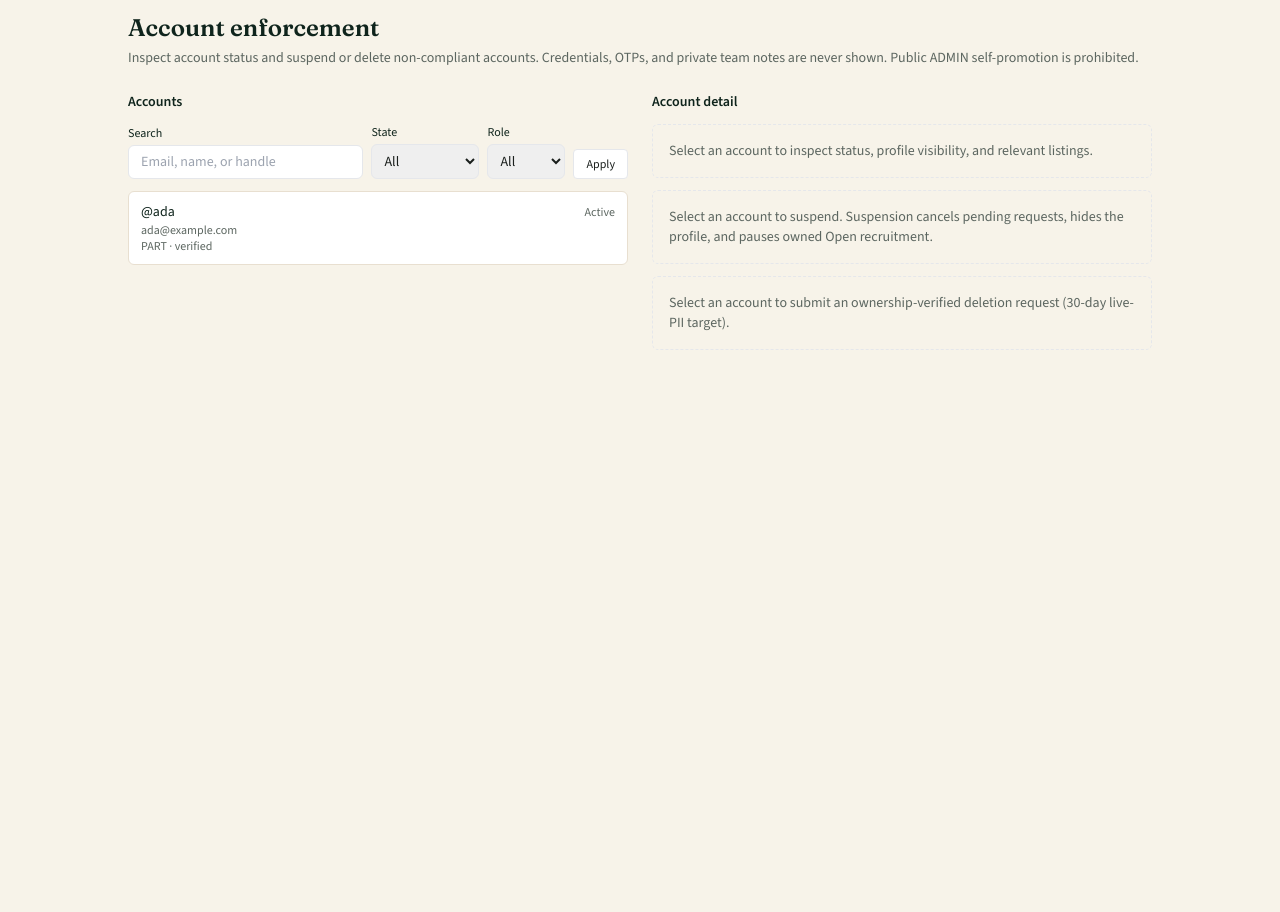
Test: AccountEnforcementPage (US-027 / #255) › shows detail load failure with retry
The width and height of the screenshot is (1280, 912).
Click the button "@ada Active ada@example.com PART · verified": (158, 212) [129, 192, 627, 264]
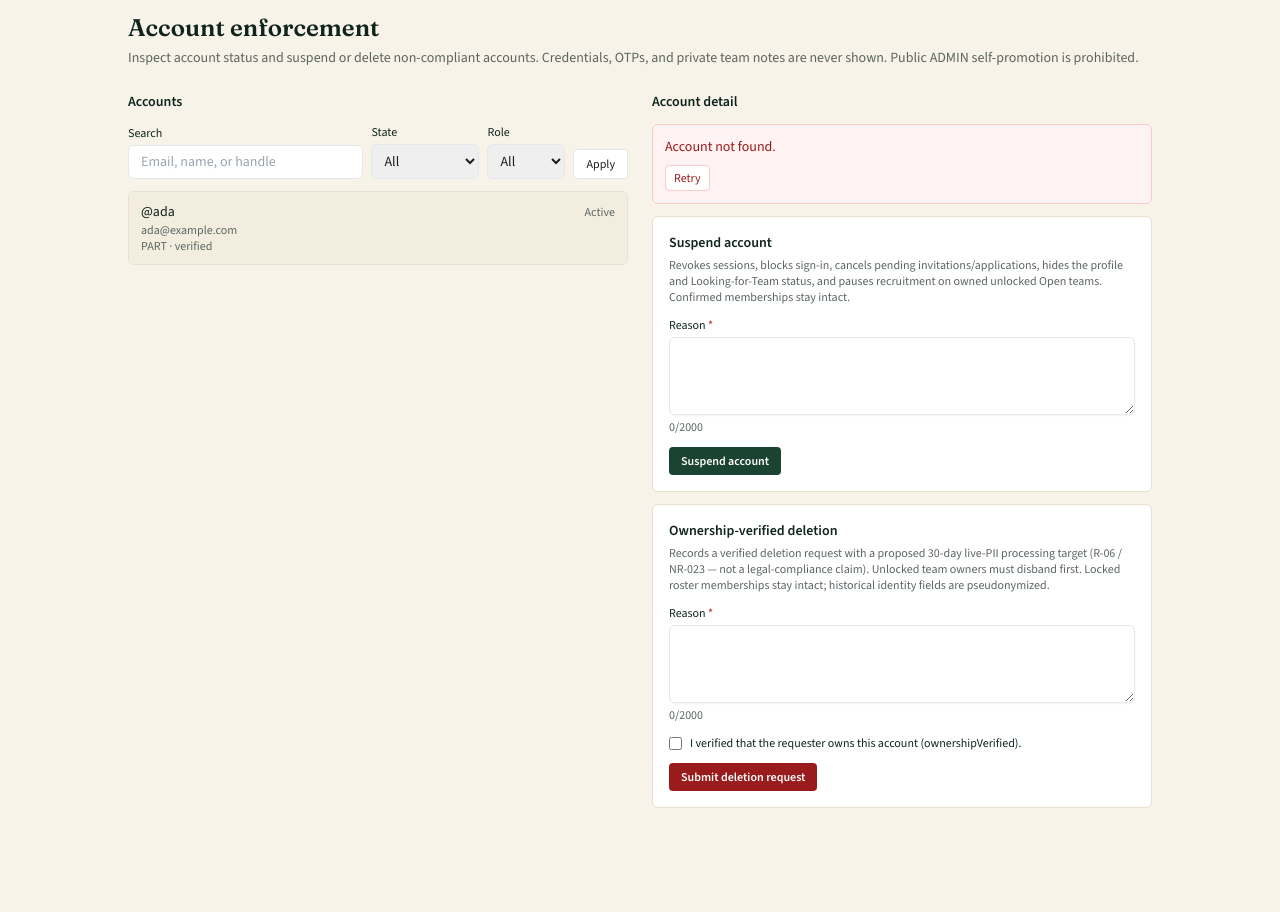
Check: the message with test id "account-detail-error" shows "Account not found", box [665, 137, 776, 156]
